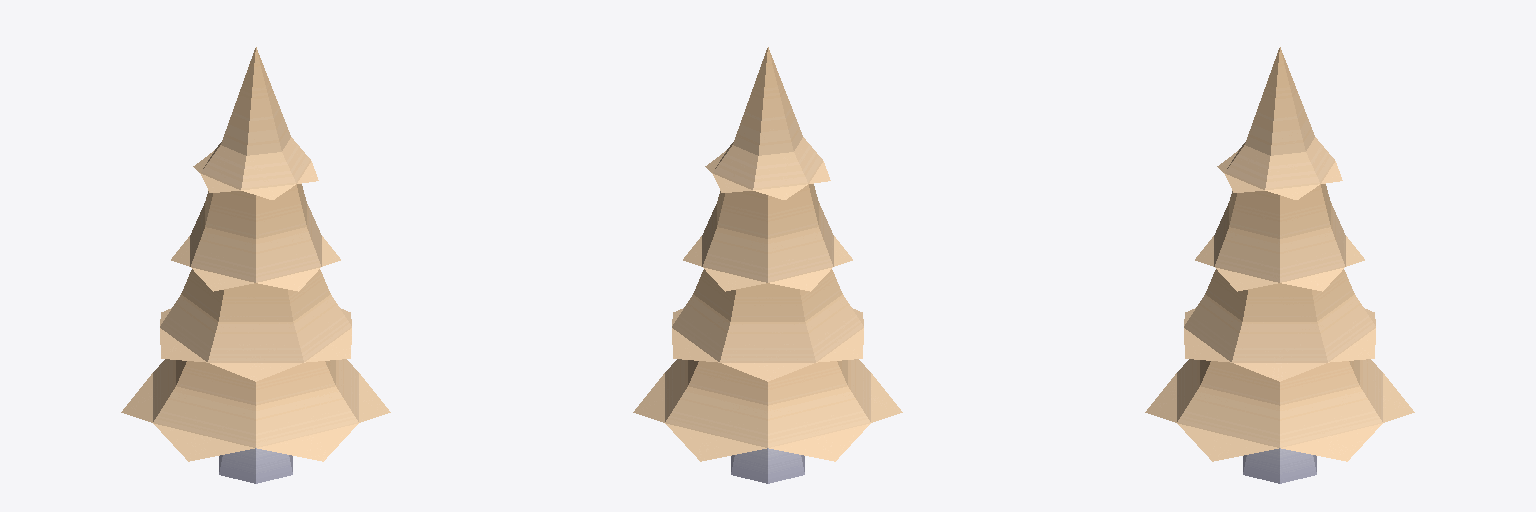
3 views of the same model, side by side, from view 1: azimuth 30°, elevation 25°; view 2: azimuth 150°, elevation 25°; view 3: azimuth 270°, elevation 25° (orthographic).
Visible parts, largest first — view 1: pine.002; view 2: pine.002; view 3: pine.002.
Part boxes in pixels (left/top/right/bottom): pine.002: left=121, top=47, right=390, bottom=483; pine.002: left=633, top=47, right=902, bottom=483; pine.002: left=1145, top=47, right=1414, bottom=483.
Bounding box in the file's own units: 2.89 × 5.61 × 3.27.
1 materials, 1 textured.